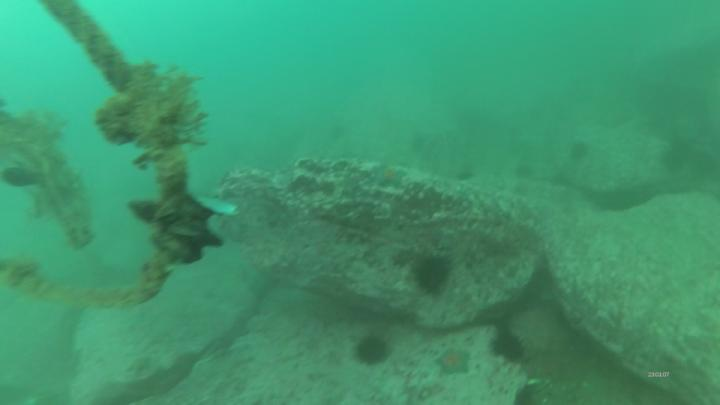echinus: (416, 261, 452, 293), (360, 338, 388, 365), (493, 335, 523, 358), (532, 267, 555, 291), (663, 149, 686, 173), (571, 142, 590, 162)
starfish: (436, 350, 472, 377)
